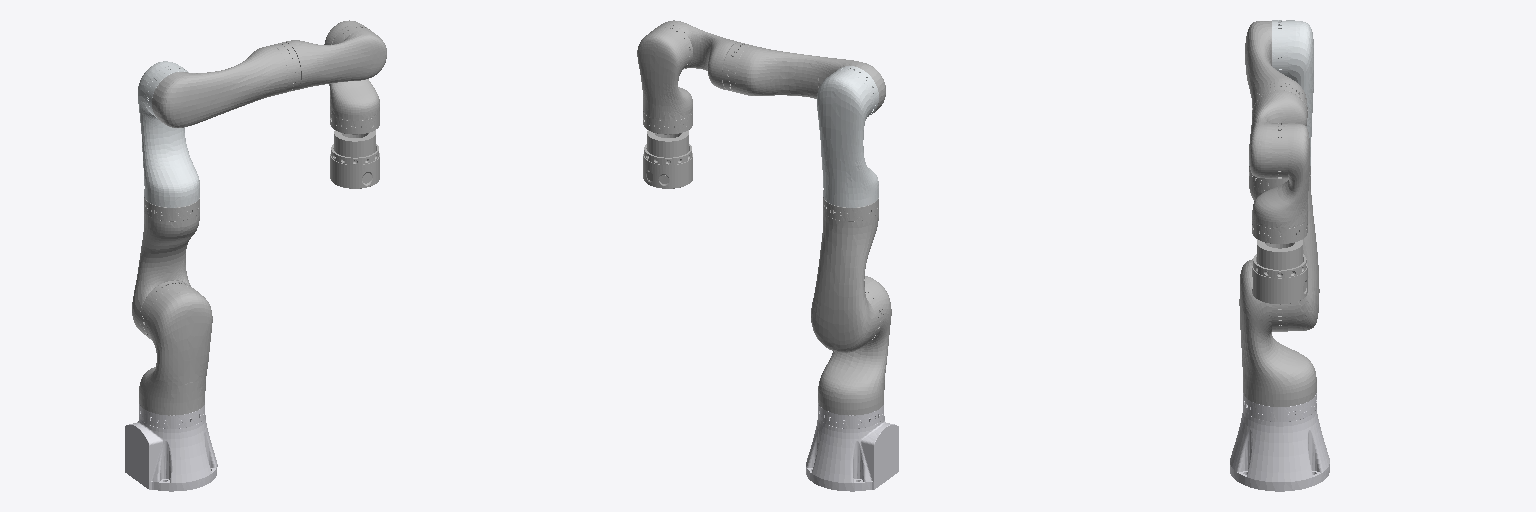
URDF robot description (fdr2):
<?xml version="1.0" encoding="utf-8"?>
<robot
  name="fdr2">
<mujoco>
    <compiler meshdir="../meshes/" discardvisual="false"/>
  </mujoco>
  <link
    name="base_link">

    <inertial>
      <origin
        xyz="-0.0048696 -7.4957E-07 0.038819"
        rpy="0 0 0" />
      <mass
        value="0.40895" />
      <inertia
        ixx="0.00081916"
        ixy="-5.3357E-09"
        ixz="3.6899E-05"
        iyy="0.00088226"
        iyz="-2.6695E-08"
        izz="0.0010545" />
    </inertial>
    <visual>
      <origin
        xyz="0 0 0"
        rpy="0 0 0" />
      <geometry>
        <mesh
          filename="package://fdr2/meshes/base_link.STL" />
      </geometry>
      <material
        name="">
        <color
          rgba="0.8902 0.8902 0.91373 1" />
      </material>
    </visual>
    <collision>
      <origin
        xyz="0 0 0"
        rpy="0 0 0" />
      <geometry>
        <mesh
          filename="package://fdr2/meshes/base_link.STL" />
      </geometry>
    </collision>
  </link>
  <link
    name="Link1">
    <inertial>
      <origin
        xyz="-2.9771E-06 -0.0035172 0.017645"
        rpy="0 0 0" />
      <mass
        value="1.7938" />
      <inertia
        ixx="0.004575"
        ixy="-3.0039E-08"
        ixz="4.8329E-07"
        iyy="0.0045729"
        iyz="0.000578"
        izz="0.0020091" />
    </inertial>
    <visual>
      <origin
        xyz="0 0 0"
        rpy="0 0 0" />
      <geometry>
        <mesh
          filename="package://fdr2/meshes/Link1.STL" />
      </geometry>
      <material
        name="">
        <color
          rgba="0.75294 0.75294 0.75294 1" />
      </material>
    </visual>
    <collision>
      <origin
        xyz="0 0 0"
        rpy="0 0 0" />
      <geometry>
        <mesh
          filename="package://fdr2/meshes/Link1.STL" />
      </geometry>
    </collision>
  </link>
  <joint
    name="joint1"
    type="revolute">
    <origin
      xyz="0 0 0.0941"
      rpy="0 0 0" />
    <parent
      link="base_link" />
    <child
      link="Link1" />
    <axis
      xyz="0 0 1" />
    <limit
      lower="-3.14"
      upper="3.14"
      effort="100"
      velocity="1" />
  </joint>
  <link
    name="Link2">
    <inertial>
      <origin
        xyz="1.4445E-06 -0.01475 0.004764"
        rpy="0 0 0" />
      <mass
        value="1.7407" />
      <inertia
        ixx="0.0040442"
        ixy="-6.8484E-08"
        ixz="-1.784E-07"
        iyy="0.0015801"
        iyz="0.00011511"
        izz="0.0042535" />
    </inertial>
    <visual>
      <origin
        xyz="0 0 0"
        rpy="0 0 0" />
      <geometry>
        <mesh
          filename="package://fdr2/meshes/Link2.STL" />
      </geometry>
      <material
        name="">
        <color
          rgba="0.75294 0.75294 0.75294 1" />
      </material>
    </visual>
    <collision>
      <origin
        xyz="0 0 0"
        rpy="0 0 0" />
      <geometry>
        <mesh
          filename="package://fdr2/meshes/Link2.STL" />
      </geometry>
    </collision>
  </link>
  <joint
    name="joint2"
    type="revolute">
    <origin
      xyz="0 0.0005 0.1379"
      rpy="-1.5708 0 0" />
    <parent
      link="Link1" />
    <child
      link="Link2" />
    <axis
      xyz="0 0 -1" />
    <limit
      lower="-3.14"
      upper="3.14"
      effort="100"
      velocity="1" />
  </joint>
  <link
    name="Link3">
    <inertial>
      <origin
        xyz="-3.6759E-07 0.010429 0.065744"
        rpy="0 0 0" />
      <mass
        value="0.36291" />
      <inertia
        ixx="0.0014682"
        ixy="-1.0238E-07"
        ixz="-1.9892E-07"
        iyy="0.0014839"
        iyz="-0.00019509"
        izz="0.00034251" />
    </inertial>
    <visual>
      <origin
        xyz="0 0 0"
        rpy="0 0 0" />
      <geometry>
        <mesh
          filename="package://fdr2/meshes/Link3.STL" />
      </geometry>
      <material
        name="">
        <color
          rgba="0.89804 0.91765 0.92941 1" />
      </material>
    </visual>
    <collision>
      <origin
        xyz="0 0 0"
        rpy="0 0 0" />
      <geometry>
        <mesh
          filename="package://fdr2/meshes/Link3.STL" />
      </geometry>
    </collision>
  </link>
  <joint
    name="joint3"
    type="fixed">
    <origin
      xyz="0 -0.1621 -0.0005"
      rpy="1.5708 0 0" />
    <parent
      link="Link2" />
    <child
      link="Link3" />
    <axis
      xyz="0 0 1" />
    <limit
      lower="-3.14"
      upper="3.14"
      effort="100"
      velocity="1" />
  </joint>
  <link
    name="Link4">
    <inertial>
      <origin
        xyz="-1.6356E-07 0.019455 0.044259"
        rpy="0 0 0" />
      <mass
        value="1.1317" />
      <inertia
        ixx="0.0028698"
        ixy="1.5479E-07"
        ixz="-4.9879E-08"
        iyy="0.00074449"
        iyz="-0.00011926"
        izz="0.0029439" />
    </inertial>
    <visual>
      <origin
        xyz="0 0 0"
        rpy="0 0 0" />
      <geometry>
        <mesh
          filename="package://fdr2/meshes/Link4.STL" />
      </geometry>
      <material
        name="">
        <color
          rgba="0.75294 0.75294 0.75294 1" />
      </material>
    </visual>
    <collision>
      <origin
        xyz="0 0 0"
        rpy="0 0 0" />
      <geometry>
        <mesh
          filename="package://fdr2/meshes/Link4.STL" />
      </geometry>
    </collision>
  </link>
  <joint
    name="joint4"
    type="revolute">
    <origin
      xyz="0 0.0005 0.1579"
      rpy="1.5708 1.5708 0" />
    <parent
      link="Link3" />
    <child
      link="Link4" />
    <axis
      xyz="0 0 1" />
    <limit
      lower="-3.14"
      upper="3.14"
      effort="100"
      velocity="1" />
  </joint>
  <link
    name="Link5">
    <inertial>
      <origin
        xyz="-1.8072E-06 -0.0028587 0.015191"
        rpy="0 0 0" />
      <mass
        value="0.74531" />
      <inertia
        ixx="0.001278"
        ixy="-2.8428E-09"
        ixz="8.0704E-08"
        iyy="0.0012748"
        iyz="0.00016104"
        izz="0.00046712" />
    </inertial>
    <visual>
      <origin
        xyz="0 0 0"
        rpy="0 0 0" />
      <geometry>
        <mesh
          filename="package://fdr2/meshes/Link5.STL" />
      </geometry>
      <material
        name="">
        <color
          rgba="0.75294 0.75294 0.75294 1" />
      </material>
    </visual>
    <collision>
      <origin
        xyz="0 0 0"
        rpy="0 0 0" />
      <geometry>
        <mesh
          filename="package://fdr2/meshes/Link5.STL" />
      </geometry>
    </collision>
  </link>
  <joint
    name="joint5"
    type="revolute">
    <origin
      xyz="0 0.1686 0.0005"
      rpy="-1.5708 0 0" />
    <parent
      link="Link4" />
    <child
      link="Link5" />
    <axis
      xyz="0 0 1" />
    <limit
      lower="-3.14"
      upper="3.14"
      effort="100"
      velocity="1" />
  </joint>
  <link
    name="Link6">
    <inertial>
      <origin
        xyz="-3.8116E-06 -0.0098379 0.0029568"
        rpy="0 0 0" />
      <mass
        value="0.73969" />
      <inertia
        ixx="0.0008499"
        ixy="-5.6794E-09"
        ixz="4.5781E-08"
        iyy="0.00043045"
        iyz="9.0818E-06"
        izz="0.00087631" />
    </inertial>
    <visual>
      <origin
        xyz="0 0 0"
        rpy="0 0 0" />
      <geometry>
        <mesh
          filename="package://fdr2/meshes/Link6.STL" />
      </geometry>
      <material
        name="">
        <color
          rgba="0.75294 0.75294 0.75294 1" />
      </material>
    </visual>
    <collision>
      <origin
        xyz="0 0 0"
        rpy="0 0 0" />
      <geometry>
        <mesh
          filename="package://fdr2/meshes/Link6.STL" />
      </geometry>
    </collision>
  </link>
  <joint
    name="joint6"
    type="revolute">
    <origin
      xyz="0 -0.0005 0.1114"
      rpy="-1.5708 1.5708 0" />
    <parent
      link="Link5" />
    <child
      link="Link6" />
    <axis
      xyz="0 0 1" />
    <limit
      lower="-3.14"
      upper="3.14"
      effort="100"
      velocity="1" />
  </joint>
  <link
    name="Link7">
    <inertial>
      <origin
        xyz="3.2189E-17 1.8676E-18 0.003"
        rpy="0 0 0" />
      <mass
        value="0.5636" />
      <inertia
        ixx="0.00027353"
        ixy="5.6778E-21"
        ixz="8.5241E-21"
        iyy="0.00027353"
        iyz="-1.123E-20"
        izz="0.00031224" />
    </inertial>
    <visual>
      <origin
        xyz="0 0 0"
        rpy="0 0 0" />
      <geometry>
        <mesh
          filename="package://fdr2/meshes/Link7.STL" />
      </geometry>
      <material
        name="">
        <color
          rgba="0.75294 0.75294 0.75294 1" />
      </material>
    </visual>
    <collision>
      <origin
        xyz="0 0 0"
        rpy="0 0 0" />
      <geometry>
        <mesh
          filename="package://fdr2/meshes/Link7.STL" />
      </geometry>
    </collision>
  </link>
  <joint
    name="joint7"
    type="revolute">
    <origin
      xyz="0 -0.1425 0.0005"
      rpy="1.5708 3.141592653589793 0" />
    <parent
      link="Link6" />
    <child
      link="Link7" />
    <axis
      xyz="0 0 1" />
    <limit
      lower="-3.14"
      upper="3.14"
      effort="100"
      velocity="1" />
  </joint>
</robot>

--- What the picture shows (computed from the rendered views, not written in the file) ---
The picture shows the robot from 3 angles, left to right: view 1: azimuth 30°, elevation 25°; view 2: azimuth 150°, elevation 25°; view 3: azimuth 270°, elevation 25°; orthographic projection.
Robot: fdr2 — 8 links, 7 joints (6 revolute, 1 fixed); root link base_link; default pose: all joints at 0.
Links seen in each view (by area): view 1: Link1, Link4, base_link, Link3, Link2, Link5, Link6, Link7; view 2: Link2, Link3, base_link, Link4, Link1, Link6, Link7, Link5; view 3: base_link, Link1, Link6, Link5, Link7, Link3, Link4, Link2.
Boxes of the visible links, x1,y1,x2,y2 form: Link1: [139, 280, 212, 415]; Link4: [152, 42, 300, 127]; base_link: [125, 404, 217, 491]; Link3: [138, 61, 199, 207]; Link2: [132, 197, 199, 334]; Link5: [286, 24, 386, 89]; Link6: [324, 20, 379, 134]; Link7: [330, 130, 379, 188]; Link2: [811, 197, 878, 352]; Link3: [817, 66, 878, 207]; base_link: [806, 403, 898, 491]; Link4: [722, 42, 885, 114]; Link1: [818, 276, 891, 415]; Link6: [637, 30, 692, 134]; Link7: [643, 130, 692, 188]; Link5: [650, 20, 737, 89]; base_link: [1230, 393, 1329, 491]; Link1: [1239, 259, 1316, 406]; Link6: [1252, 123, 1309, 243]; Link5: [1249, 90, 1307, 178]; Link7: [1252, 239, 1307, 304]; Link3: [1249, 20, 1313, 165]; Link4: [1245, 21, 1307, 113]; Link2: [1249, 166, 1319, 330].
Size in the robot's own frame: 0.3676 by 0.1199 by 0.5896 metres.
Meshes: 8 distinct files referenced, 8 mesh visuals loaded (8 binary STL).
